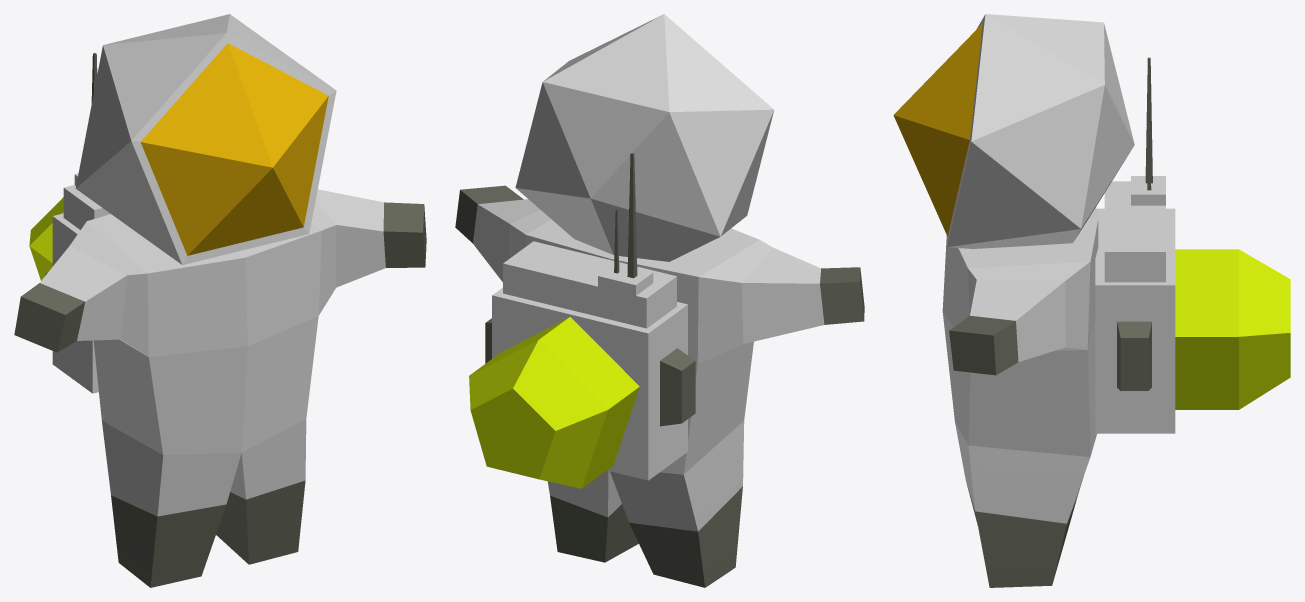
Rendered from Astro.fbx.
3 renders of one model, left to right at view 1: azimuth 30°, elevation 25°; view 2: azimuth 150°, elevation 25°; view 3: azimuth 270°, elevation 25°, orthographic.
Visible parts, largest first — view 1: Player; view 2: Player; view 3: Player.
Boxes of the visible parts, left/top/right/bottom form: Player: left=14, top=14, right=426, bottom=587; Player: left=455, top=14, right=864, bottom=587; Player: left=893, top=14, right=1290, bottom=587.
Bounding box in the file's own units: 1.9 × 2.37 × 1.59.
